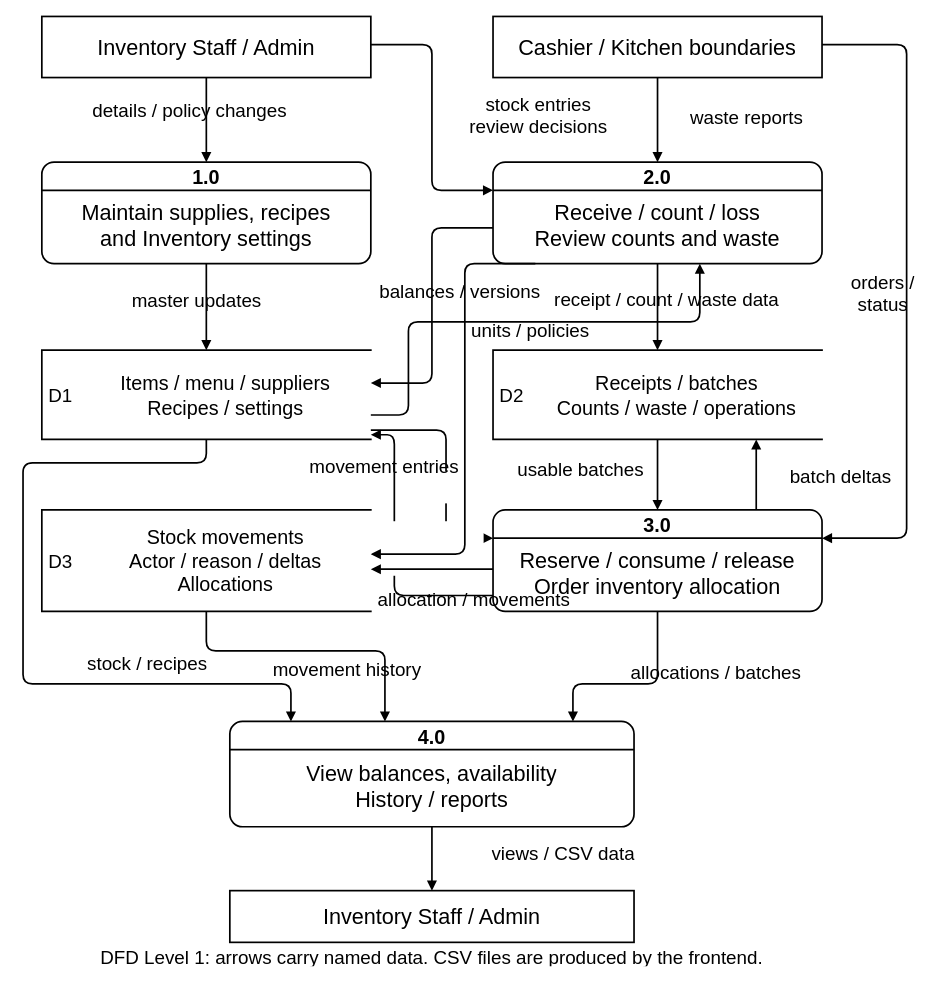
Image size: 951x984. Some labels were removed from this diagram. The centre of each missing label's shape, as x and y in pixels:
"balance updates" belongs at (x=426, y=548).
"recipe / menu data" belongs at (x=375, y=487).
